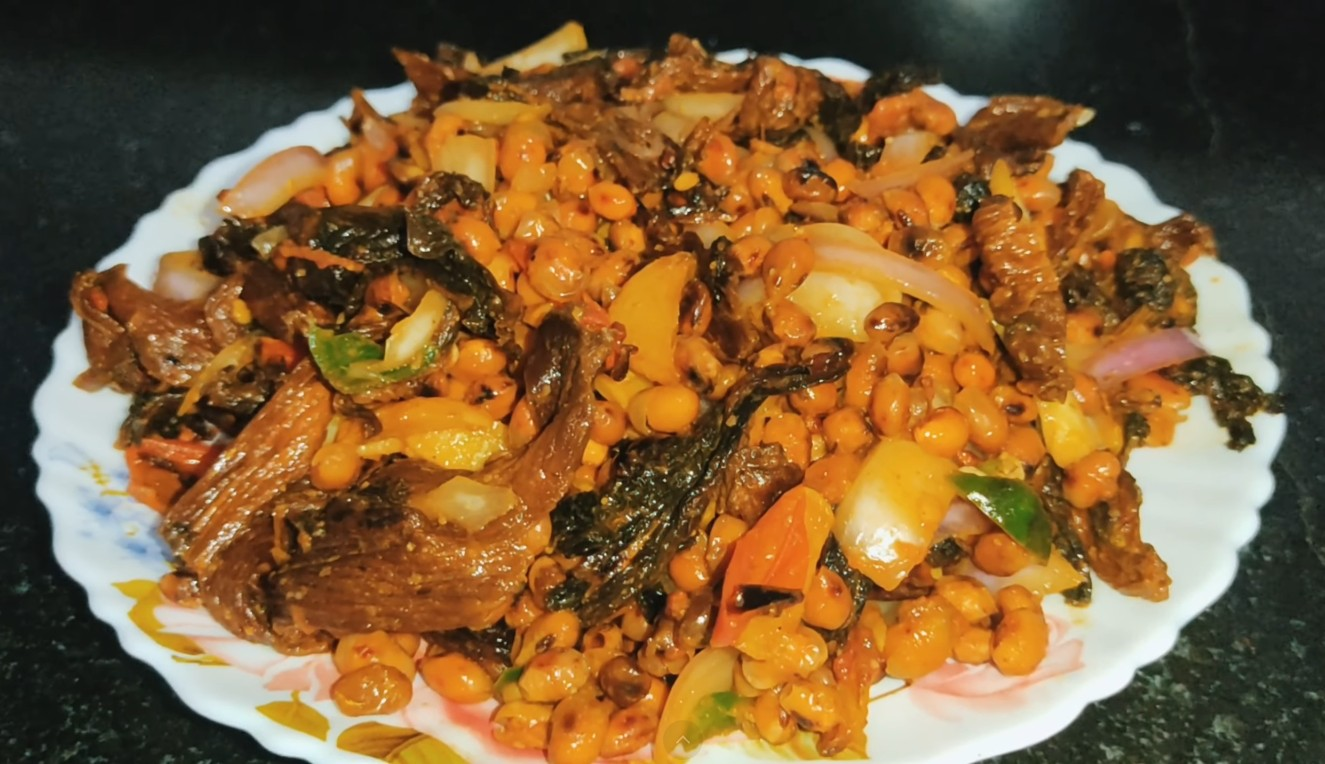gundruk: (172, 100, 1167, 665)
